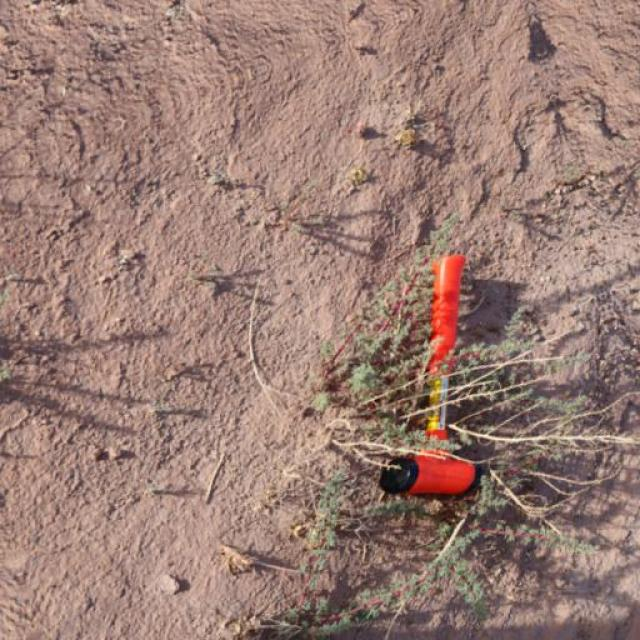mallet: (378, 251, 483, 499)
